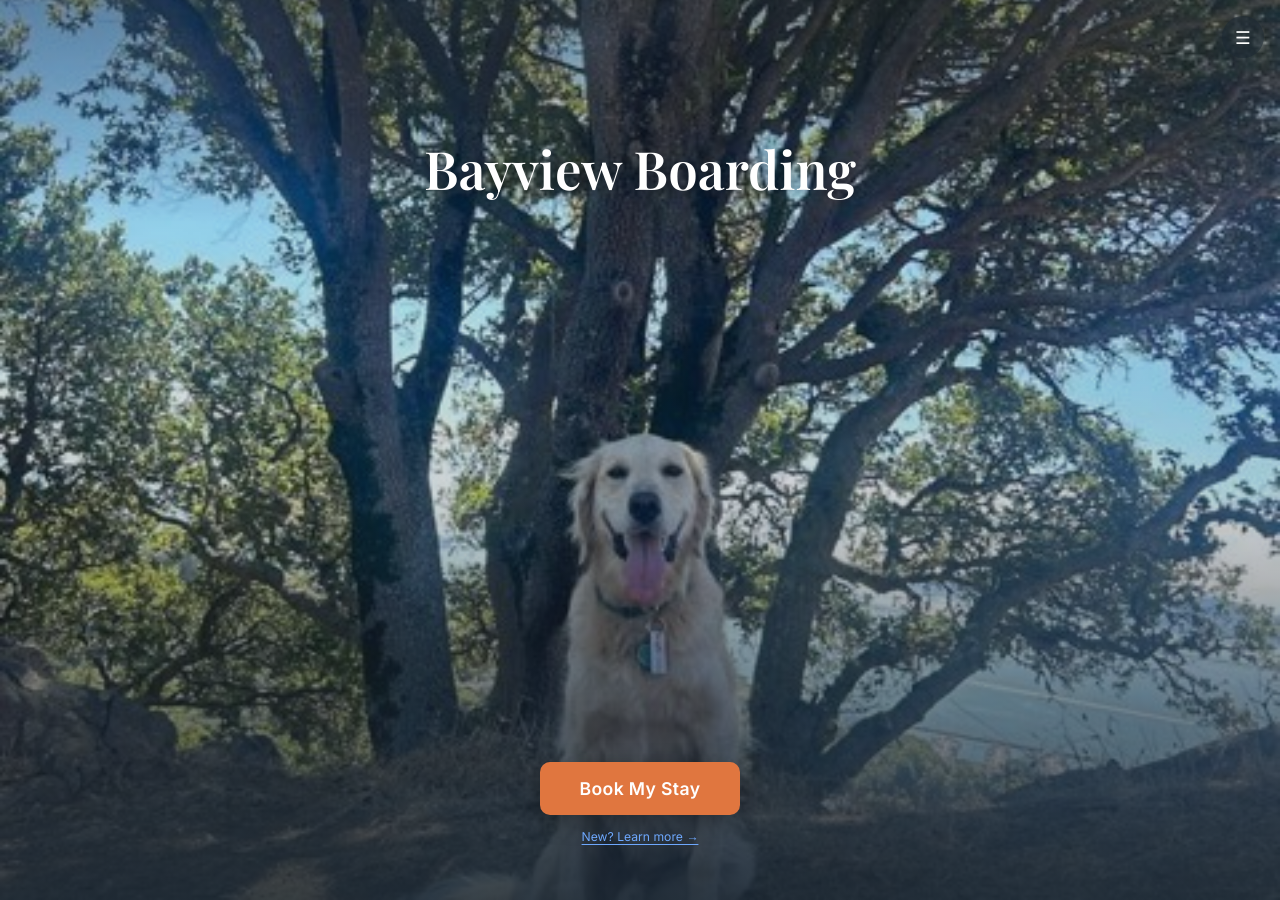
Test: Nav menu (hamburger) › is collapsed until opened, then shows all seven destinations
Expected: the text "About Us" is not shown
Click the button named "Open menu" at [1243, 37], box x1=1222 y1=16 x2=1264 y2=58
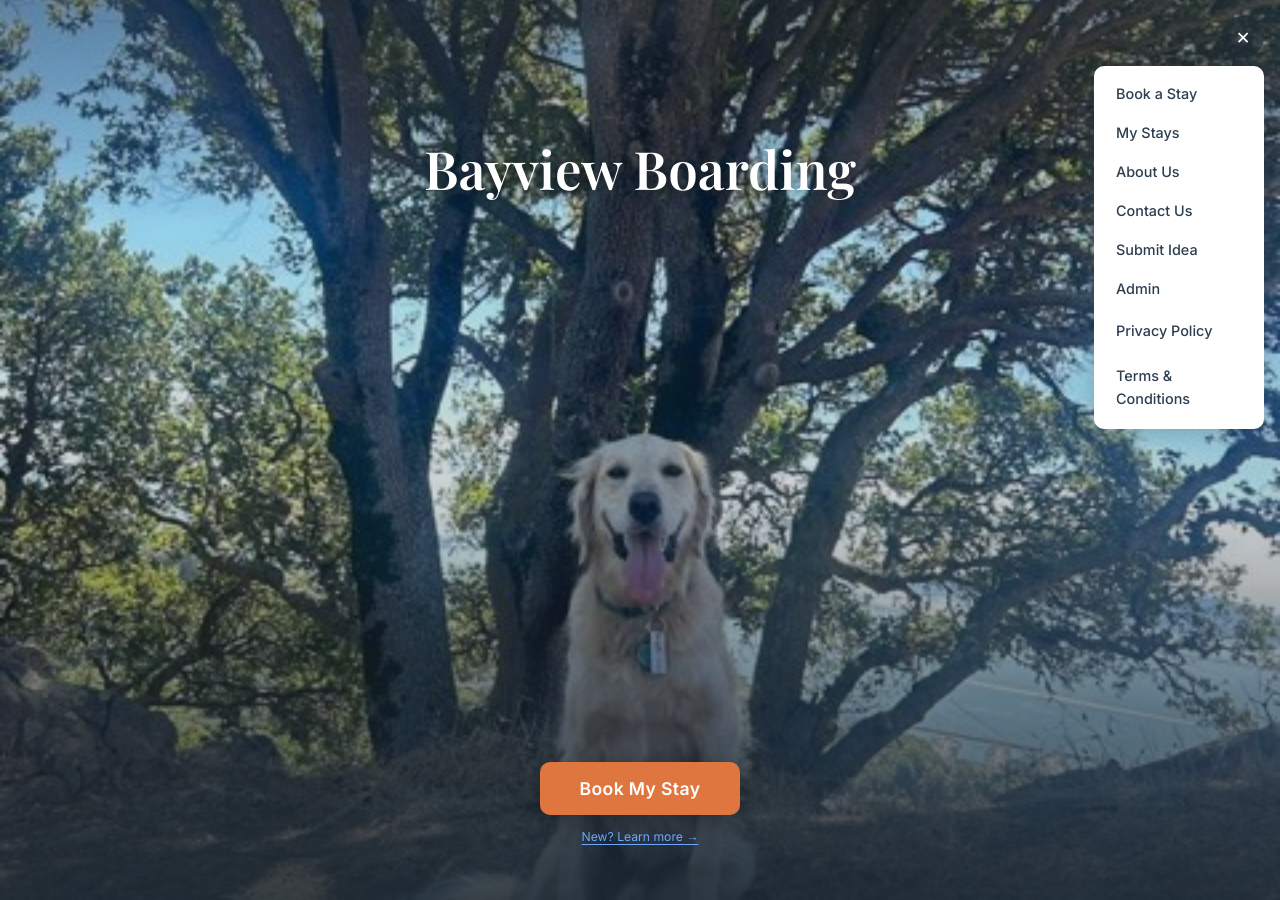
Expected: the button "About Us" is shown, x1=1102 y1=152 x2=1256 y2=191
Expected: the button "Contact Us" is shown, x1=1102 y1=191 x2=1256 y2=230
Expected: the button "Submit Idea" is shown, x1=1102 y1=230 x2=1256 y2=269
